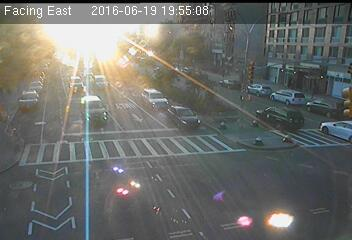neg: (220, 53, 234, 71)
